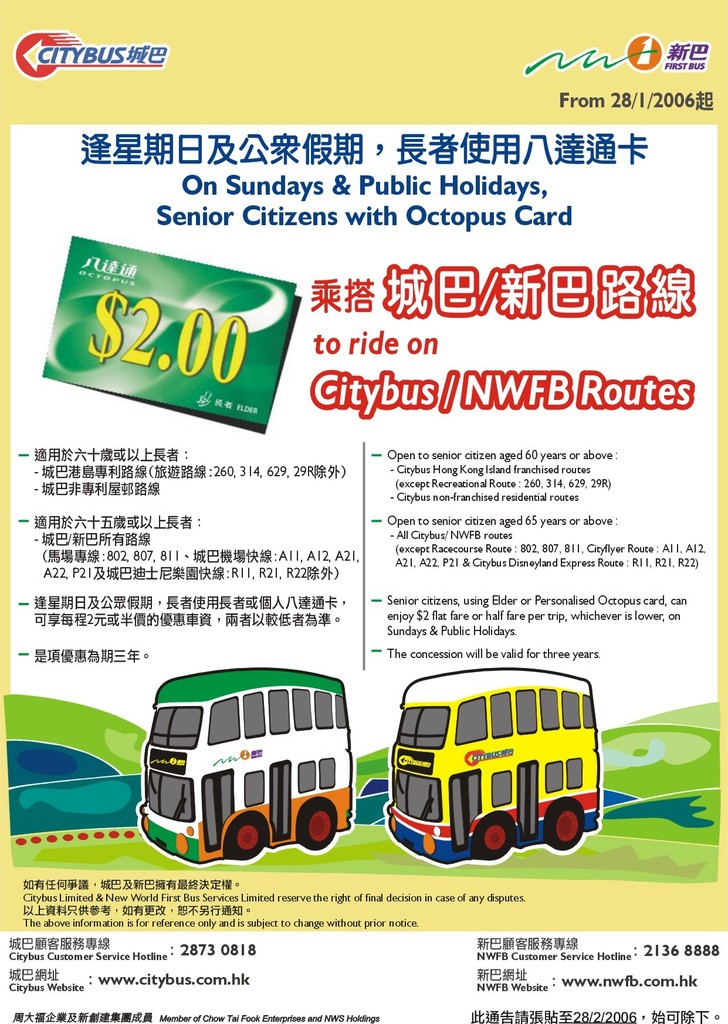Bus: (136, 662, 355, 863), (384, 666, 603, 860)
